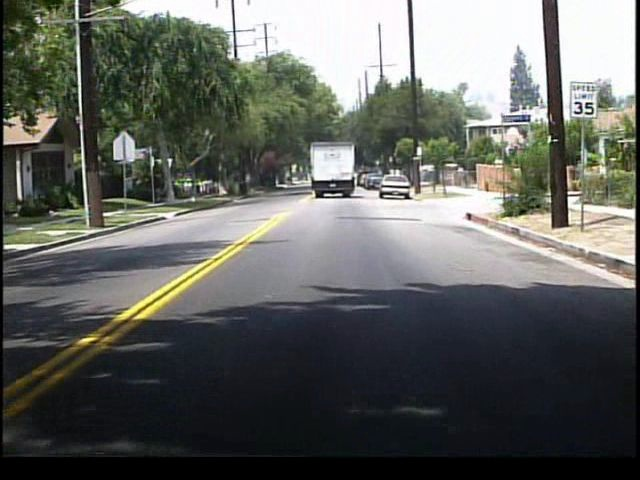person: (455, 164, 466, 189)
